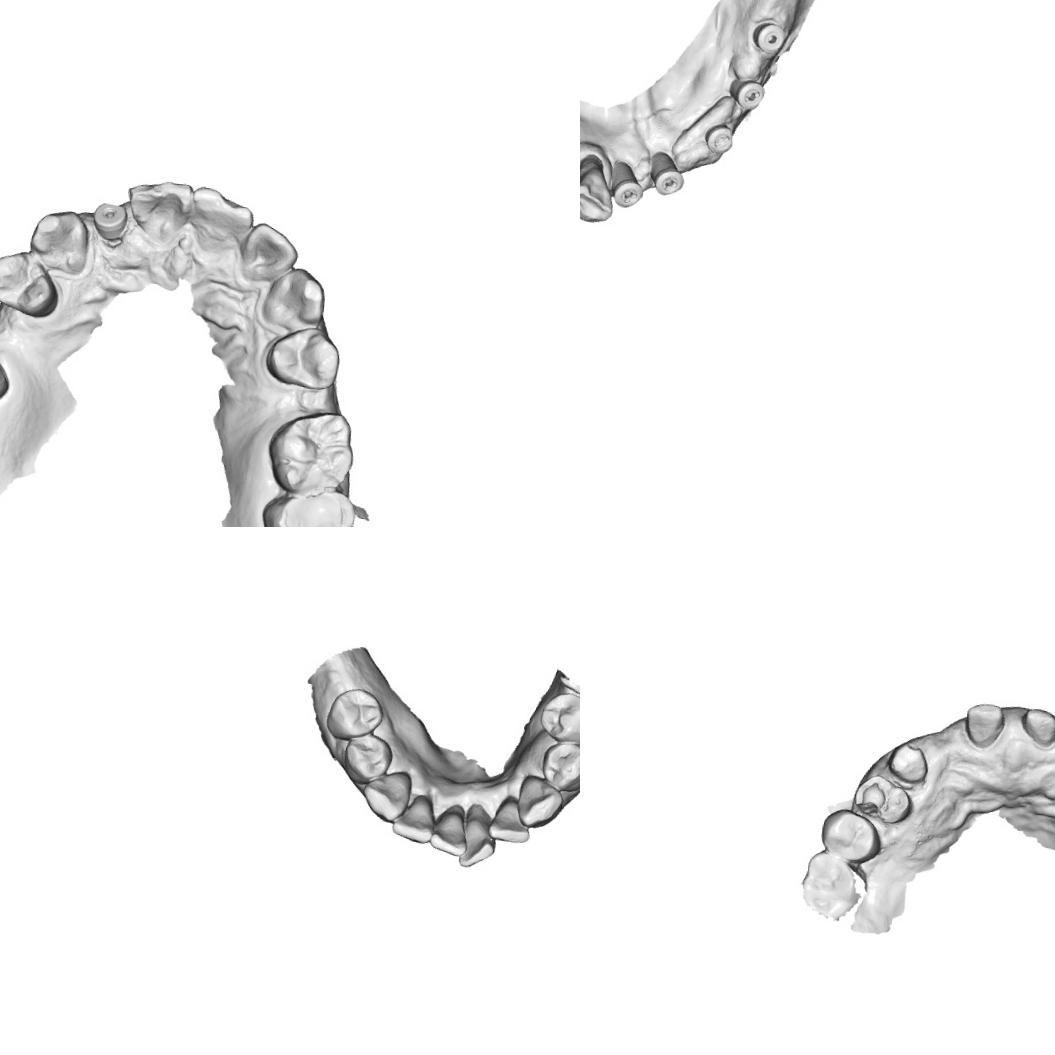canine: (257, 260, 331, 334), (24, 204, 95, 280), (512, 771, 565, 832), (359, 766, 413, 824)
crown: (952, 686, 1014, 758), (880, 736, 939, 798), (1010, 695, 1055, 753)
implant: (86, 194, 134, 248), (750, 19, 788, 56)
implant_minus: (726, 75, 768, 114), (702, 122, 739, 156)
implant_plus: (604, 156, 652, 216), (646, 148, 688, 200)
incisor: (122, 172, 196, 246), (182, 182, 256, 256), (237, 218, 304, 284), (389, 790, 440, 846), (486, 791, 536, 848), (580, 162, 618, 228), (428, 805, 471, 858), (458, 814, 498, 870)
molar: (260, 402, 360, 513), (254, 485, 362, 527)
premolar: (260, 320, 348, 396), (0, 244, 65, 321), (810, 803, 884, 869), (848, 772, 917, 829), (324, 686, 386, 744), (340, 732, 394, 784), (535, 689, 580, 748), (537, 739, 580, 796)
